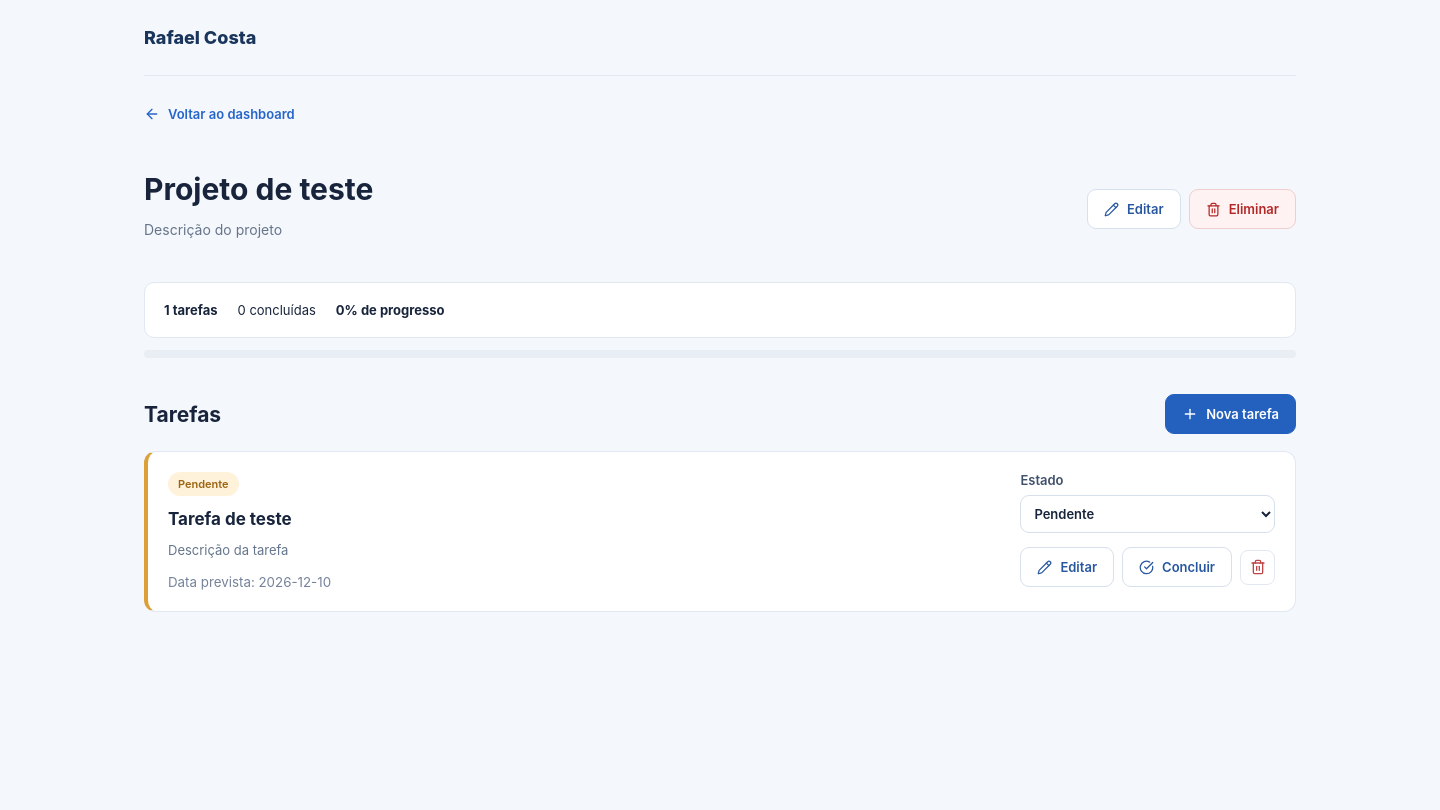
it: Ramificações adicionais de ProjectDetail › mostra erro quando a eliminação de tarefa falha
Check: the heading "Projeto de teste" is shown, box [144, 171, 373, 207]
Check: the heading "Tarefa de teste" is shown, box [168, 509, 292, 529]
Click the button named "Eliminar tarefa Tarefa de teste" at (1258, 567), box [1240, 550, 1275, 584]
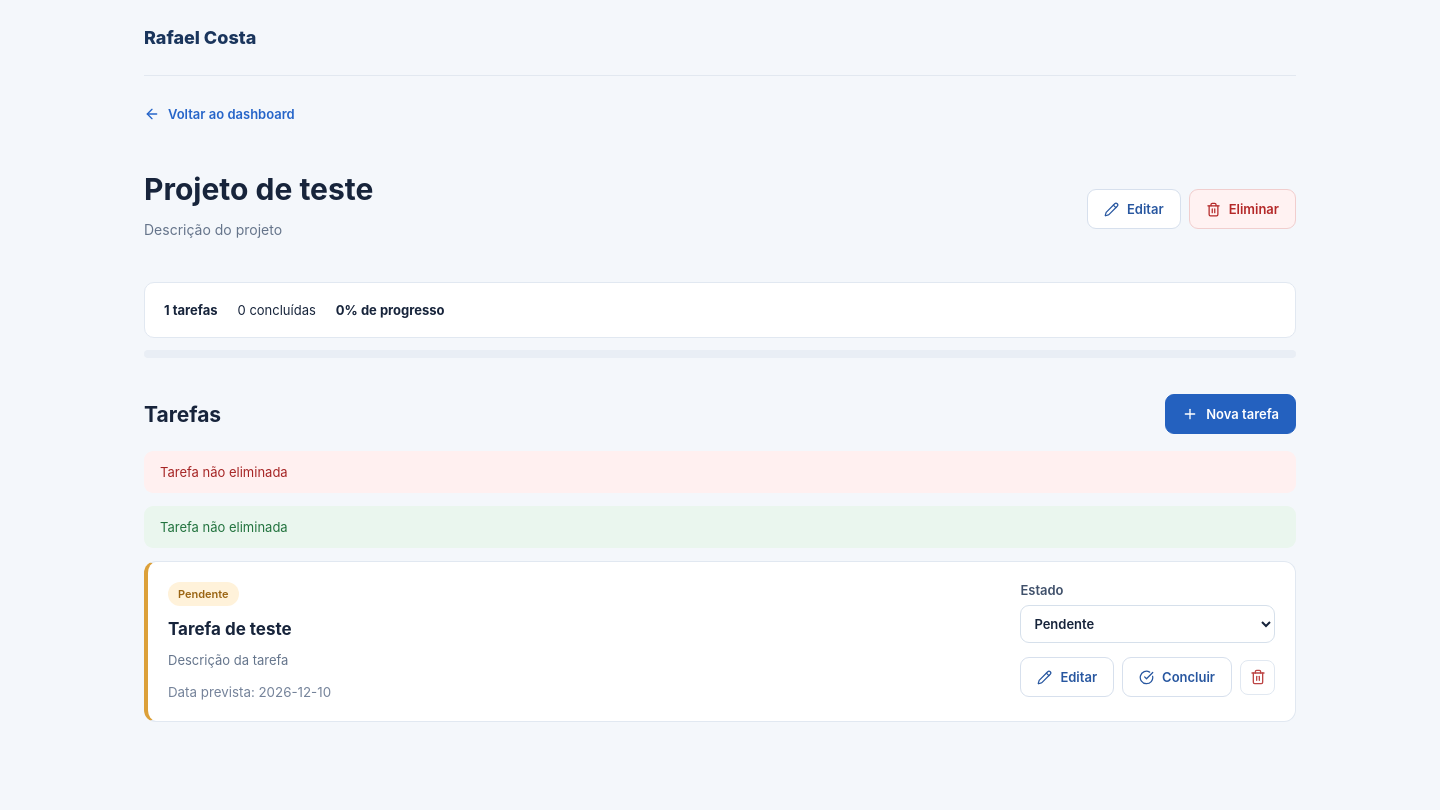
Check: the 2nd message "Tarefa não eliminada" is shown, box [144, 506, 1296, 548]
